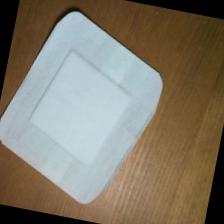Dressing: (1, 1, 179, 218)
